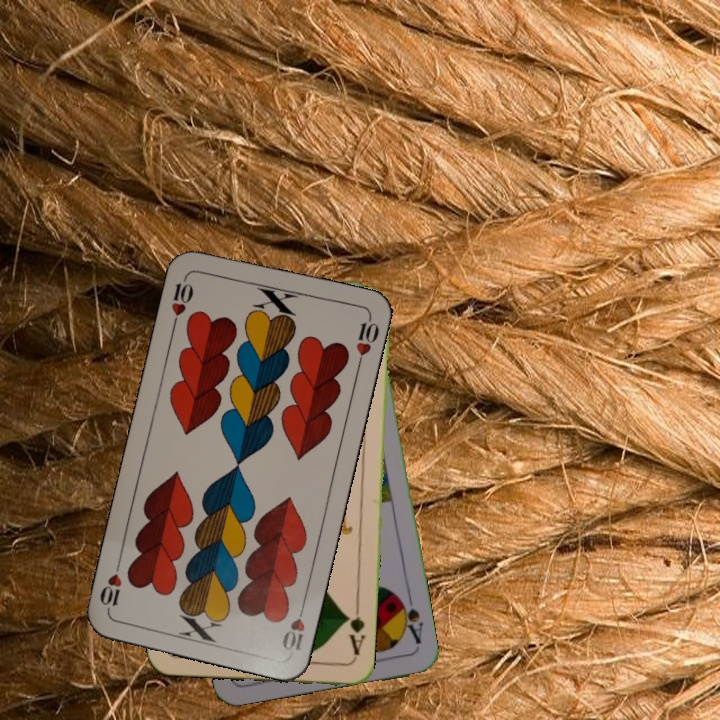GA: (341, 601, 368, 660)
H10: (167, 271, 196, 330), (278, 597, 308, 654)
SA: (394, 590, 426, 647)
